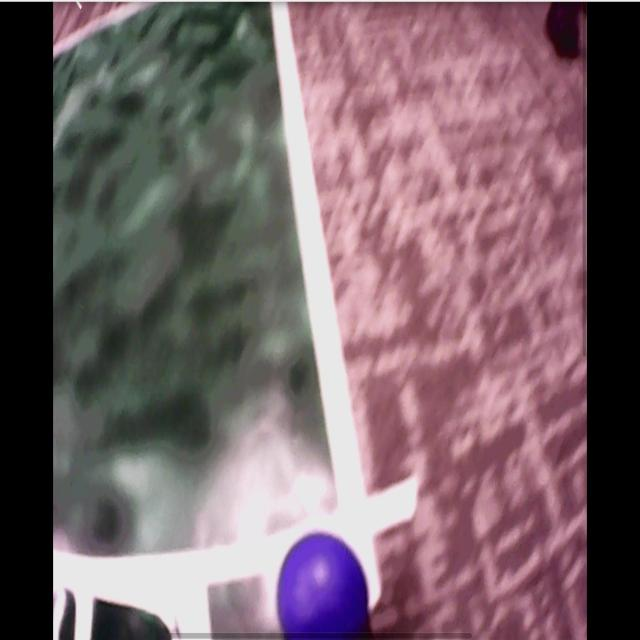ball: (277, 530, 372, 638)
